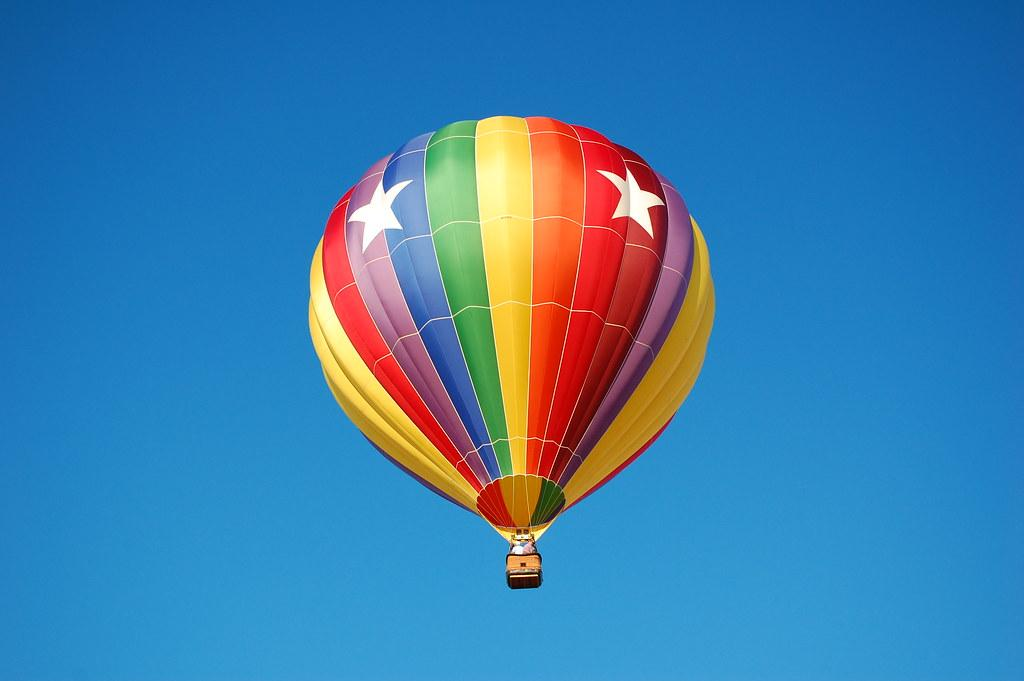balloon: (307, 114, 717, 590)
